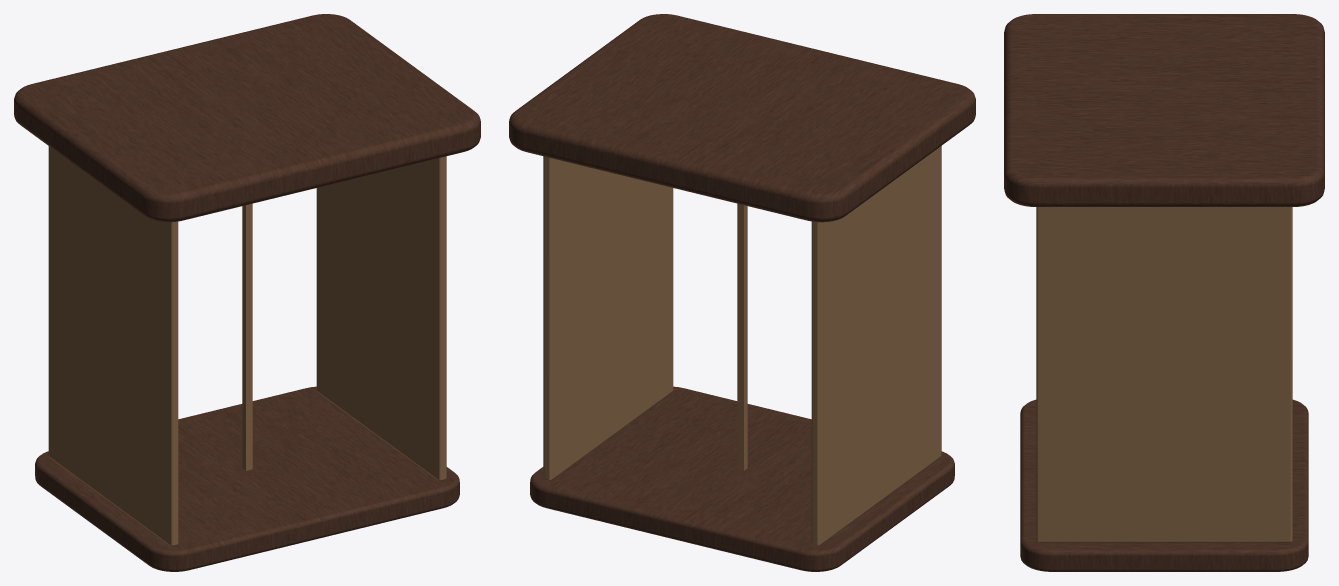
Rendered from nepal-side-stool.glb.
3 views of the same model, side by side, from view 1: azimuth 30°, elevation 25°; view 2: azimuth 150°, elevation 25°; view 3: azimuth 270°, elevation 25° (orthographic). The views are drawn at different scales.
Visible parts, largest first — view 1: top, plate-1, foot, plate1, rod; view 2: top, plate-1, foot, plate1, rod; view 3: plate1, top, foot.
Part boxes in pixels (x1,y1,x2,y2): top: [14, 14, 480, 222]; plate-1: [48, 146, 178, 546]; foot: [35, 386, 459, 571]; plate1: [316, 156, 446, 480]; rod: [242, 203, 252, 470]; top: [509, 14, 975, 222]; plate-1: [811, 146, 941, 546]; foot: [530, 386, 954, 571]; plate1: [543, 156, 673, 480]; rod: [737, 203, 747, 470]; plate1: [1036, 207, 1292, 542]; top: [1004, 14, 1324, 206]; foot: [1020, 399, 1308, 571].
Size of the model in its own units: 0.5 by 0.55 by 0.4.
Materials: 2 (1 with a texture image).
